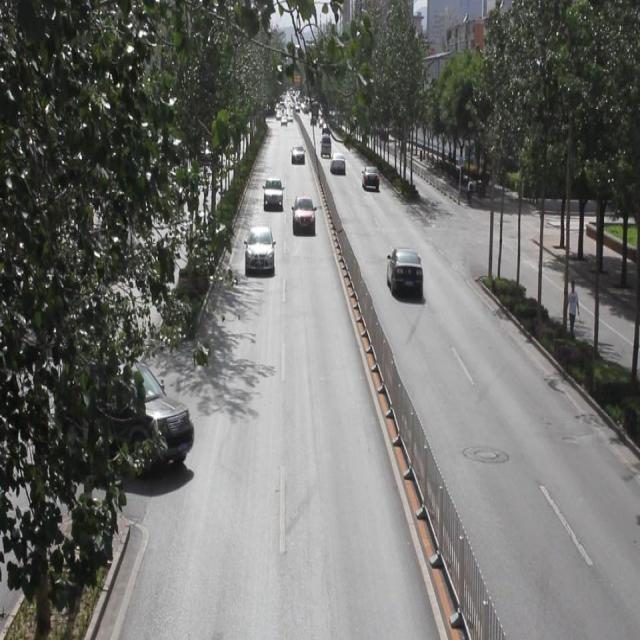car: (52, 349, 192, 478), (387, 247, 422, 299), (245, 225, 274, 272), (292, 194, 315, 235), (263, 176, 284, 209), (361, 163, 380, 193), (330, 152, 346, 176), (290, 143, 304, 166)
truck: (319, 133, 331, 160)
